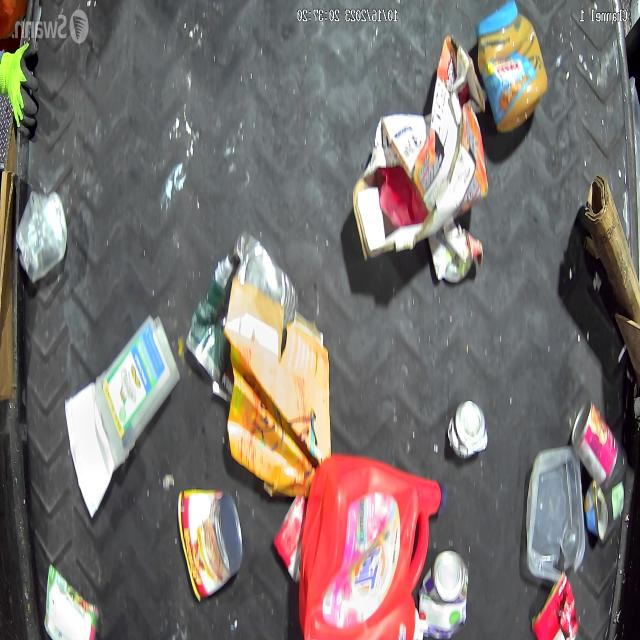can: (178, 482, 243, 608), (568, 397, 622, 494), (419, 544, 472, 640), (581, 467, 626, 549), (446, 393, 489, 470)
non_white_jug: (295, 456, 442, 640)
